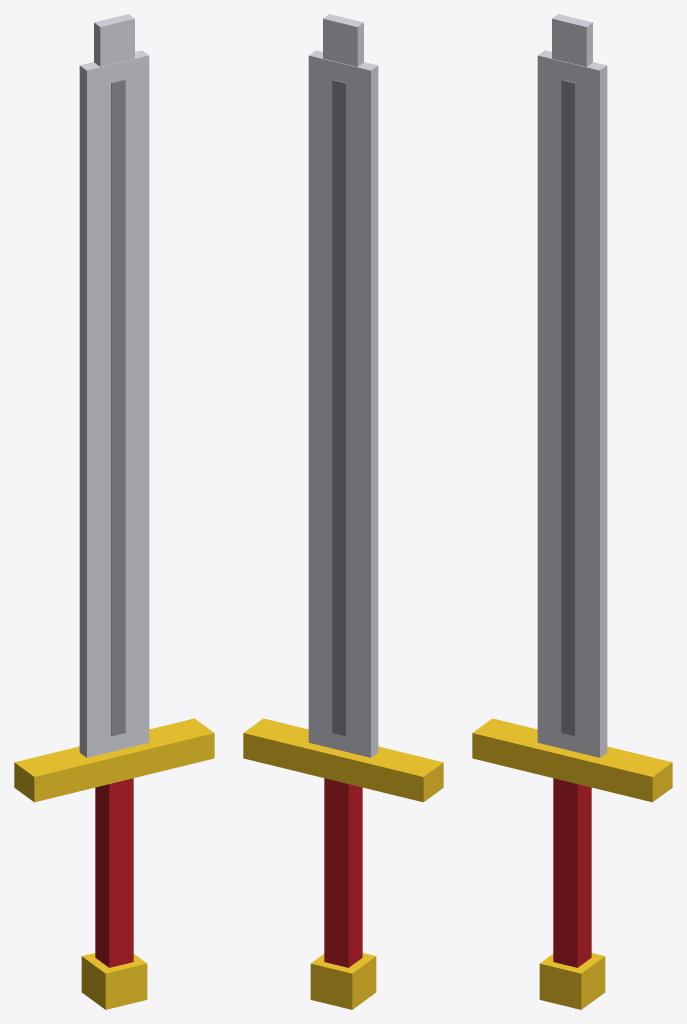
File: ExampleGreatsword.fbx
3 views of the same model, side by side, from view 1: azimuth 30°, elevation 25°; view 2: azimuth 150°, elevation 25°; view 3: azimuth 330°, elevation 25° (orthographic).
Visible parts, largest first — view 1: ExampleGreatsword; view 2: ExampleGreatsword; view 3: ExampleGreatsword.
Boxes of the visible parts, <box> form: ExampleGreatsword: <box>14,14,214,1009</box>; ExampleGreatsword: <box>243,14,443,1009</box>; ExampleGreatsword: <box>472,14,672,1009</box>.
Size of the model in its own units: 0.26 by 1.34 by 0.06.
1 material, 1 textured.
